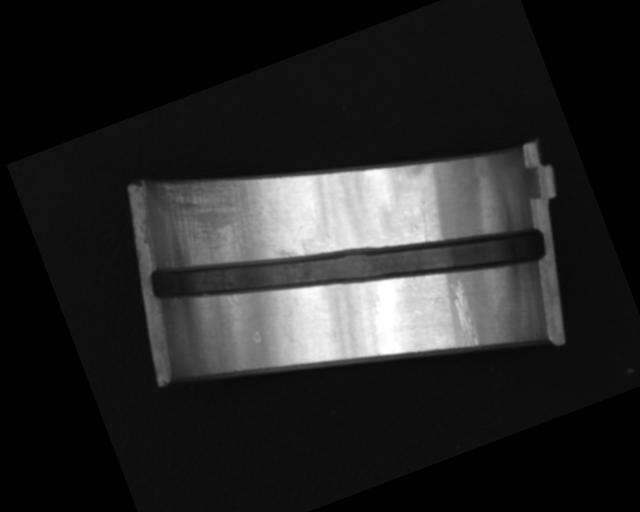bruise: (251, 329, 264, 344)
gap: (146, 136, 552, 391)
nick: (444, 276, 487, 351), (411, 198, 440, 244)
scratch: (143, 144, 300, 299)
